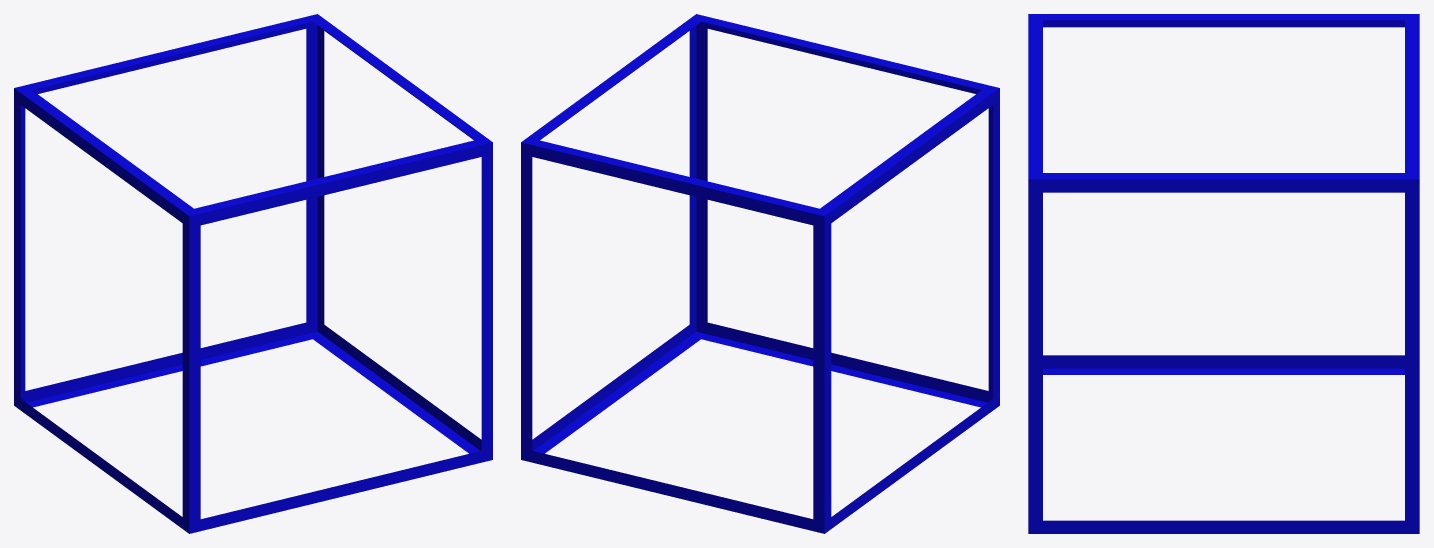
File: cubo-aresta.glb
3 renders of one model, left to right at view 1: azimuth 30°, elevation 25°; view 2: azimuth 150°, elevation 25°; view 3: azimuth 270°, elevation 25°, orthographic. The views are drawn at different scales.
Visible parts, largest first — view 1: Cube; view 2: Cube; view 3: Cube.
Part boxes in pixels (x1,y1,x2,y2): Cube: (14, 14, 492, 533); Cube: (521, 14, 999, 533); Cube: (1028, 14, 1419, 533).
Size of the model in its own units: 1 by 1 by 1.
